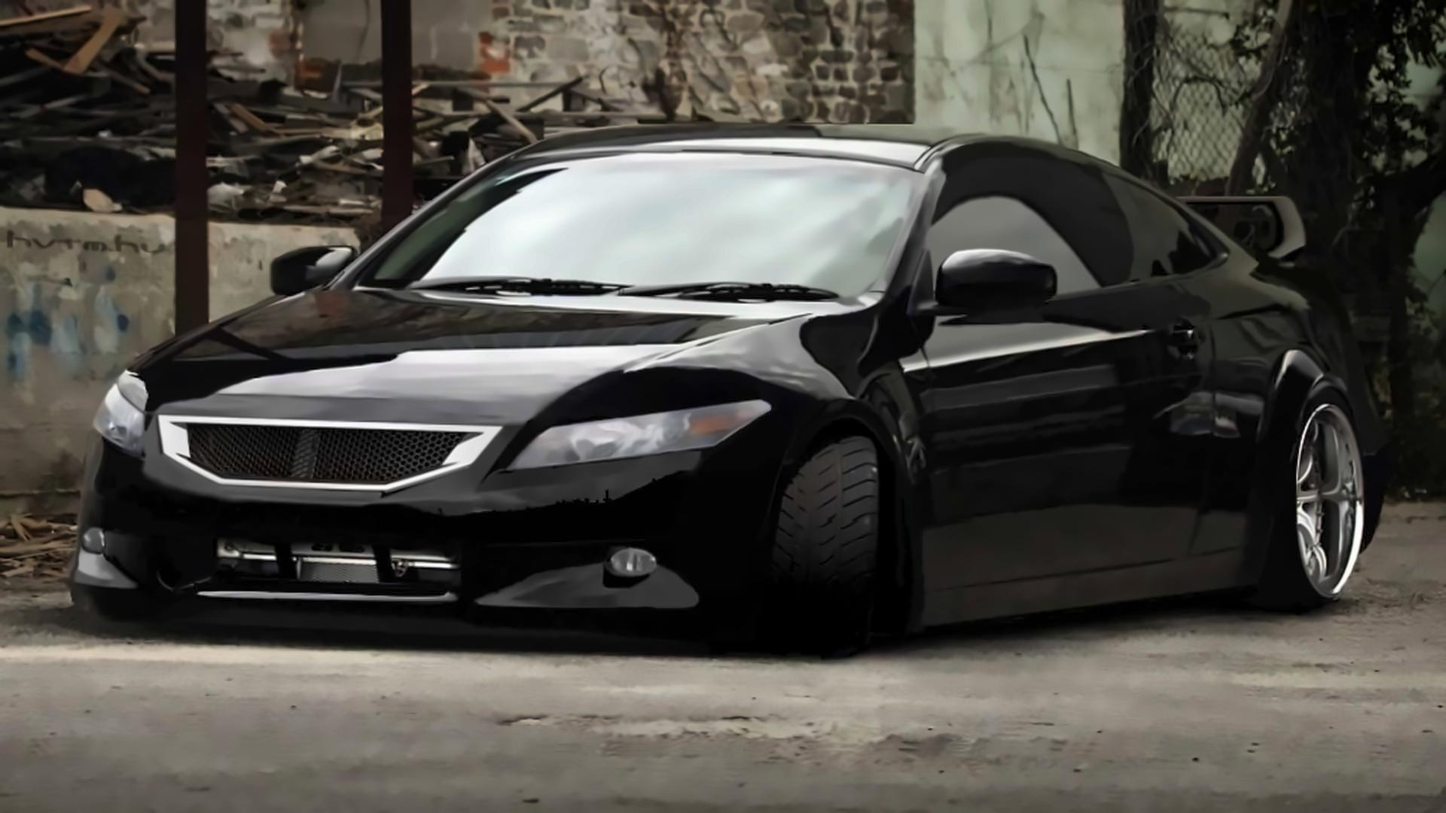Car hood: (122, 277, 830, 431)
Fender - -F-L-: (772, 277, 943, 634)
Fender - -R-L-: (1261, 279, 1374, 565)
Front bumper: (63, 450, 793, 650)
Headlight - -L-: (502, 392, 778, 478)
Headlight - -R-: (85, 351, 164, 463)
Passenger-s door - -F-L-: (917, 124, 1228, 594)
Rear bumper: (1341, 409, 1424, 569)
Side bumper - -L-: (905, 540, 1282, 645)
Side mirror - -L-: (923, 238, 1067, 323)
Side mirror - -R-: (259, 237, 362, 303)
